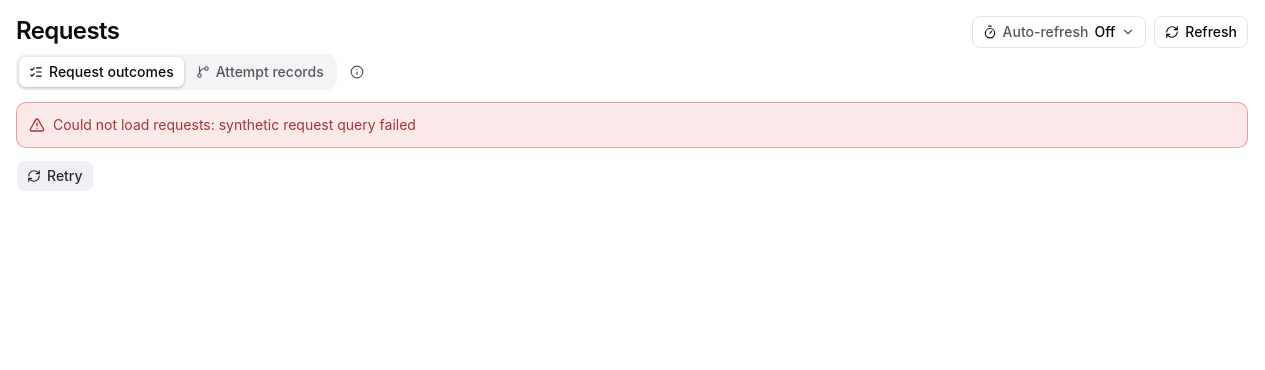
Test: request list navigation and read states › shows retry on a read failure, not the successful empty-state action
Expected: the text "Could not load requests: synthetic request query failed" is shown, [53, 115, 416, 135]
Click the button "Retry": (55, 176) [16, 160, 94, 192]
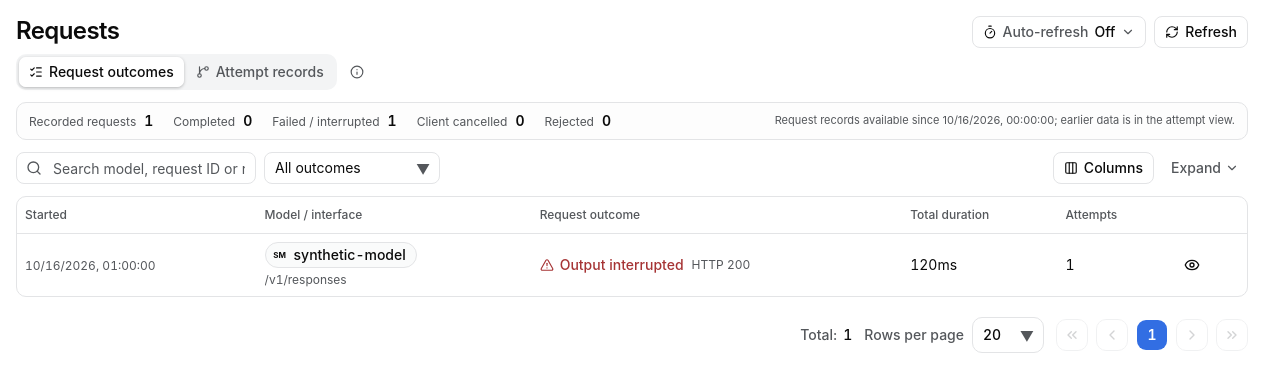
Expected: the text "Output interrupted" is shown, [540, 254, 684, 274]
